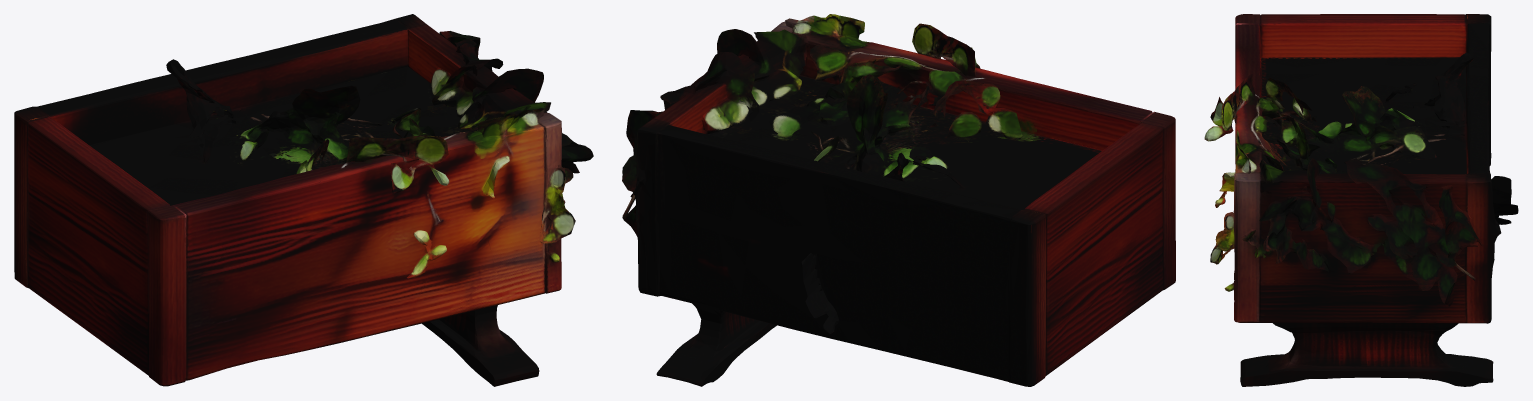
Rendered from wooden-planter-box-vintage.jpeg.glb.
3 views of the same model, side by side, from view 1: azimuth 30°, elevation 25°; view 2: azimuth 150°, elevation 25°; view 3: azimuth 270°, elevation 25° (orthographic). The views are drawn at different scales.
Parts seen in each view (by area): view 1: world; view 2: world; view 3: world.
Part boxes in pixels (x1,y1,x2,y2): world: (14, 14, 593, 386); world: (622, 14, 1175, 386); world: (1204, 14, 1518, 386).
Size of the model in its own units: 0.9969 by 0.5935 by 0.7079.
1 material, 1 textured.
